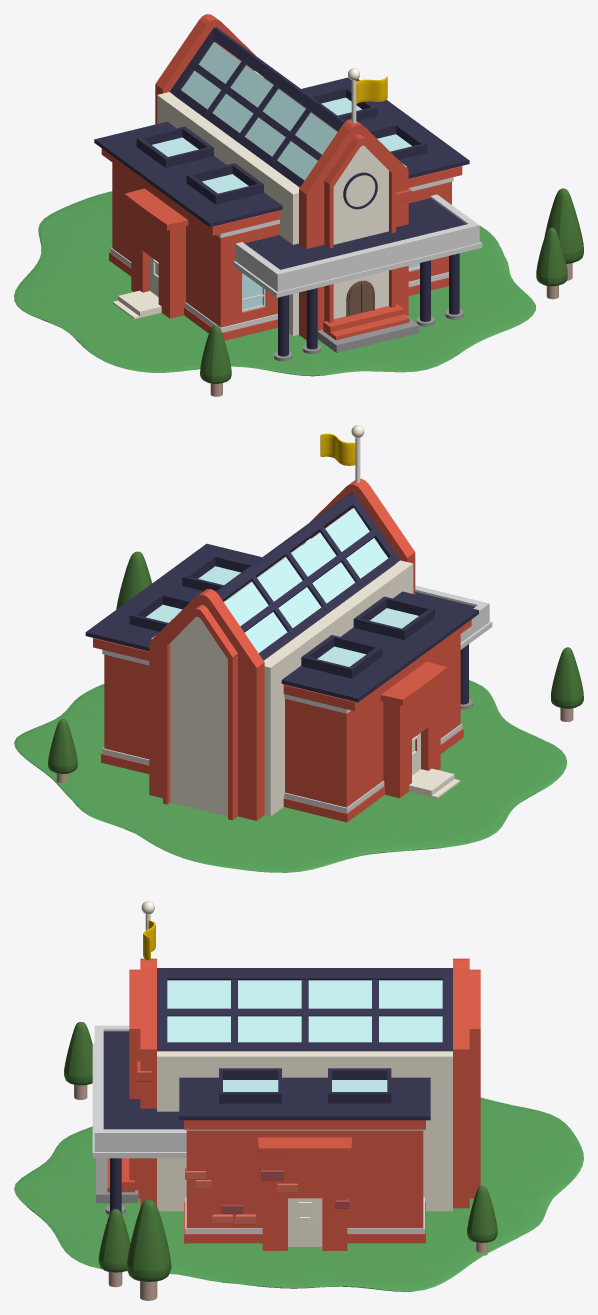
The model's file is School.fbx.
3 views of the same model, one above another, from view 1: azimuth 30°, elevation 25°; view 2: azimuth 150°, elevation 25°; view 3: azimuth 270°, elevation 25° (orthographic). The views are drawn at different scales.
Visible parts, largest first — view 1: School_Middle, School_Ground, School_Side_01, School_Veranda, School_Side_02, School_Pillar, Tree_01, Tree_04, Tree_03, School_Flag, School_Stair; view 2: School_Middle, School_Side_01, School_Ground, School_Side_02, Tree_04, School_Veranda, Tree_02, School_Flag, Tree_01, School_Stair, School_Pillar; view 3: School_Middle, School_Side_01, School_Ground, School_Side_02, School_Veranda, Tree_01, Tree_03, Tree_04, Tree_02, School_Pillar, School_Flag.
Part boxes in pixels (<box>): School_Middle: <box>155,14,419,352</box>; School_Ground: <box>14,191,535,376</box>; School_Side_01: <box>94,77,469,340</box>; School_Veranda: <box>233,194,482,297</box>; School_Side_02: <box>124,188,188,318</box>; School_Pillar: <box>274,253,463,361</box>; Tree_01: <box>544,188,583,280</box>; Tree_04: <box>200,325,231,396</box>; Tree_03: <box>536,227,567,299</box>; School_Flag: <box>348,68,387,123</box>; School_Stair: <box>112,290,161,319</box>; School_Middle: <box>149,478,415,820</box>; School_Side_01: <box>85,543,478,822</box>; School_Ground: <box>14,680,567,872</box>; School_Side_02: <box>380,661,447,798</box>; Tree_04: <box>551,647,583,721</box>; School_Veranda: <box>415,585,492,649</box>; Tree_02: <box>48,719,77,782</box>; School_Flag: <box>320,425,364,482</box>; Tree_01: <box>116,551,152,609</box>; School_Stair: <box>409,768,460,798</box>; School_Pillar: <box>460,644,473,709</box>; School_Middle: <box>96,958,480,1211</box>; School_Side_01: <box>179,1068,430,1243</box>; School_Ground: <box>14,1097,583,1291</box>; School_Side_02: <box>257,1137,352,1250</box>; School_Veranda: <box>92,1025,186,1158</box>; Tree_01: <box>126,1199,171,1300</box>; Tree_03: <box>98,1209,130,1287</box>; Tree_04: <box>64,1022,92,1099</box>; Tree_02: <box>467,1186,497,1255</box>; School_Pillar: <box>105,1158,125,1225</box>; School_Flag: <box>141,901,155,961</box>.
Size of the model in its own units: 2732 by 1486 by 2695.
